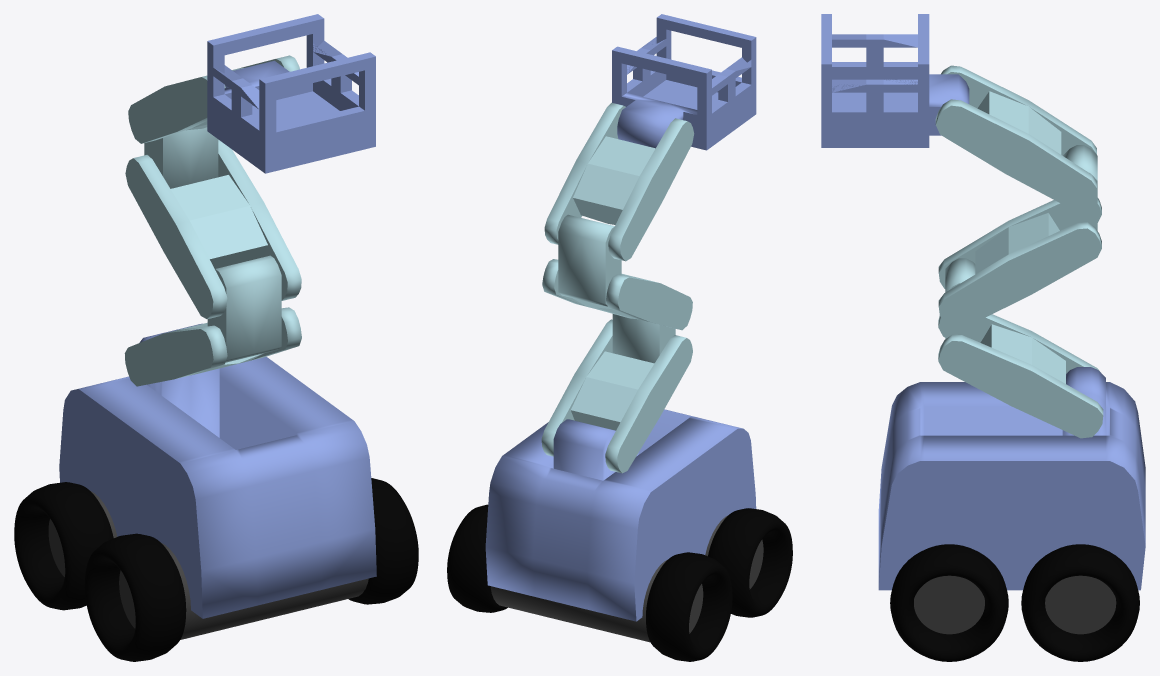
The model's file is grua.fbx.
The picture shows the model from 3 angles, left to right: view 1: azimuth 30°, elevation 25°; view 2: azimuth 150°, elevation 25°; view 3: azimuth 270°, elevation 25°; orthographic projection. The views are drawn at different scales.
Parts seen in each view (by area): view 1: Base, Cesta, Brazo03, Rueda01, Rueda04, Brazo02, Brazo01, Rueda02, Brazo05, EjeDelantero, Brazo04, EjeTrasero; view 2: Base, Cesta, Brazo05, Brazo01, Rueda04, Rueda01, Brazo04, Brazo03, Rueda03, EjeTrasero, Brazo02, EjeDelantero; view 3: Base, Cesta, Brazo05, Brazo03, Brazo01, Rueda03, Rueda02, EjeTrasero, EjeDelantero, Brazo04, Brazo02.
Boxes of the visible parts, left/top/right/bottom form: Base: left=59, top=323, right=376, bottom=618; Cesta: left=207, top=14, right=375, bottom=173; Brazo03: left=125, top=139, right=301, bottom=319; Rueda01: left=84, top=533, right=186, bottom=661; Rueda04: left=14, top=482, right=113, bottom=610; Brazo02: left=207, top=255, right=281, bottom=362; Brazo01: left=124, top=307, right=301, bottom=386; Rueda02: left=348, top=478, right=418, bottom=604; Brazo05: left=128, top=55, right=299, bottom=143; EjeDelantero: left=119, top=543, right=368, bottom=639; Brazo04: left=144, top=127, right=218, bottom=188; EjeTrasero: left=48, top=491, right=117, bottom=576; Base: left=485, top=409, right=756, bottom=621; Cesta: left=612, top=14, right=756, bottom=150; Brazo05: left=544, top=102, right=694, bottom=261; Brazo01: left=541, top=319, right=692, bottom=473; Rueda04: left=646, top=552, right=732, bottom=661; Rueda01: left=708, top=508, right=792, bottom=617; Brazo04: left=558, top=214, right=621, bottom=306; Brazo03: left=542, top=259, right=692, bottom=330; Rueda03: left=447, top=504, right=507, bottom=612; EjeTrasero: left=490, top=560, right=703, bottom=642; Brazo02: left=612, top=314, right=675, bottom=363; EjeDelantero: left=705, top=515, right=763, bottom=589; Base: left=878, top=367, right=1145, bottom=590; Cesta: left=821, top=14, right=969, bottom=147; Brazo05: left=935, top=65, right=1096, bottom=209; Brazo03: left=938, top=198, right=1101, bottom=329; Brazo01: left=938, top=314, right=1103, bottom=438; Rueda03: left=1021, top=544, right=1139, bottom=661; Rueda02: left=890, top=544, right=1008, bottom=661; EjeTrasero: left=1045, top=575, right=1116, bottom=634; EjeDelantero: left=914, top=575, right=984, bottom=634; Brazo04: left=1063, top=145, right=1097, bottom=230; Brazo02: left=945, top=258, right=979, bottom=342.
Bounding box in the file's own units: 641 × 1313 × 683.
